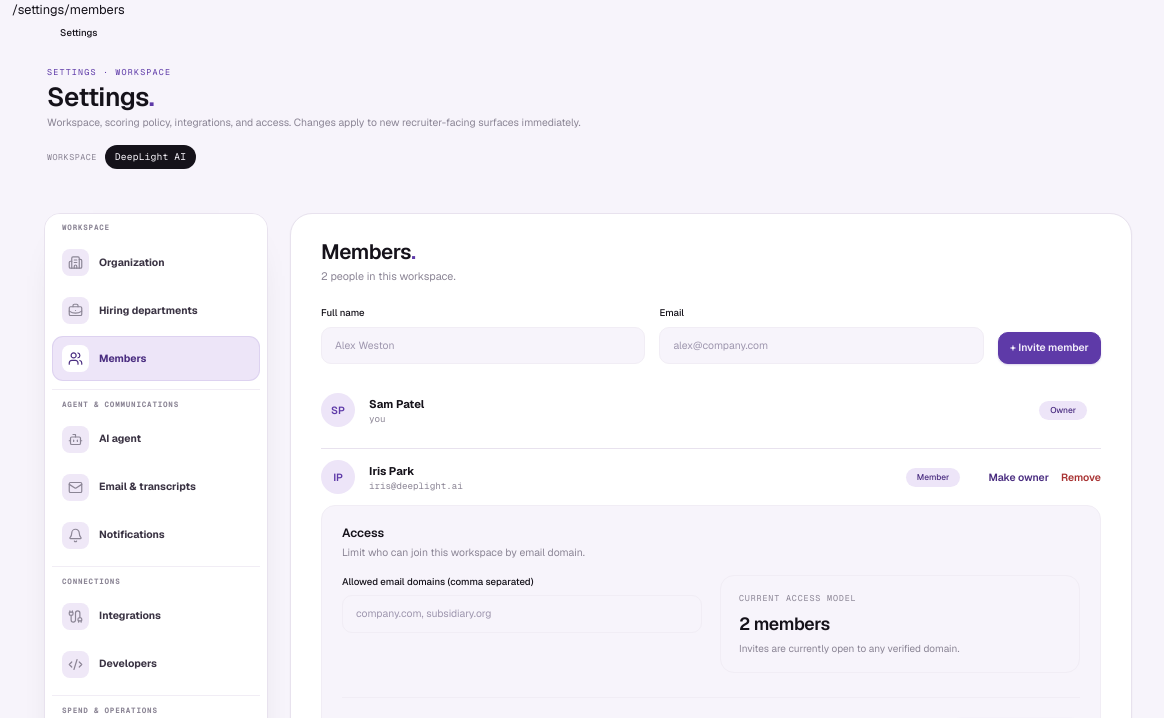
SettingsPage recruiter surface › lets an owner promote a member to owner
The image size is (1164, 718).
What coordinates should you click on to do the following:
click the button "Make owner"
I would click on:
 (1019, 477)
Its box is [988, 463, 1049, 491].
(page scrolled)
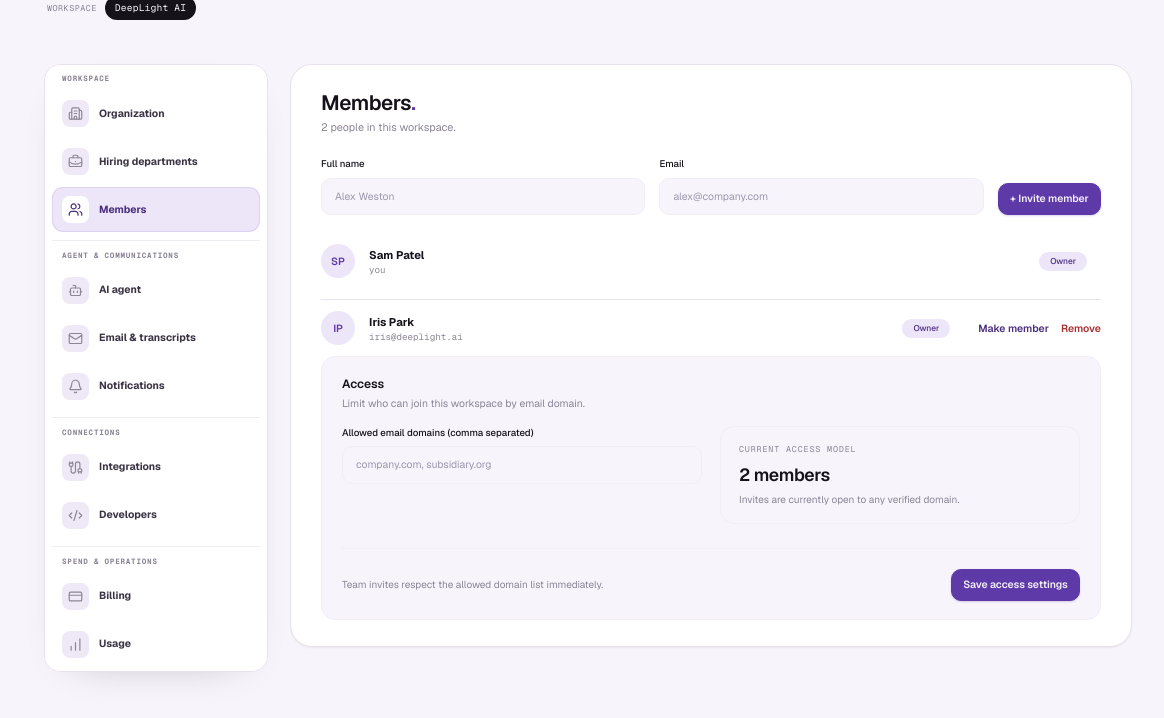
Result: the button "Make member" is shown at [978, 314, 1049, 342]
